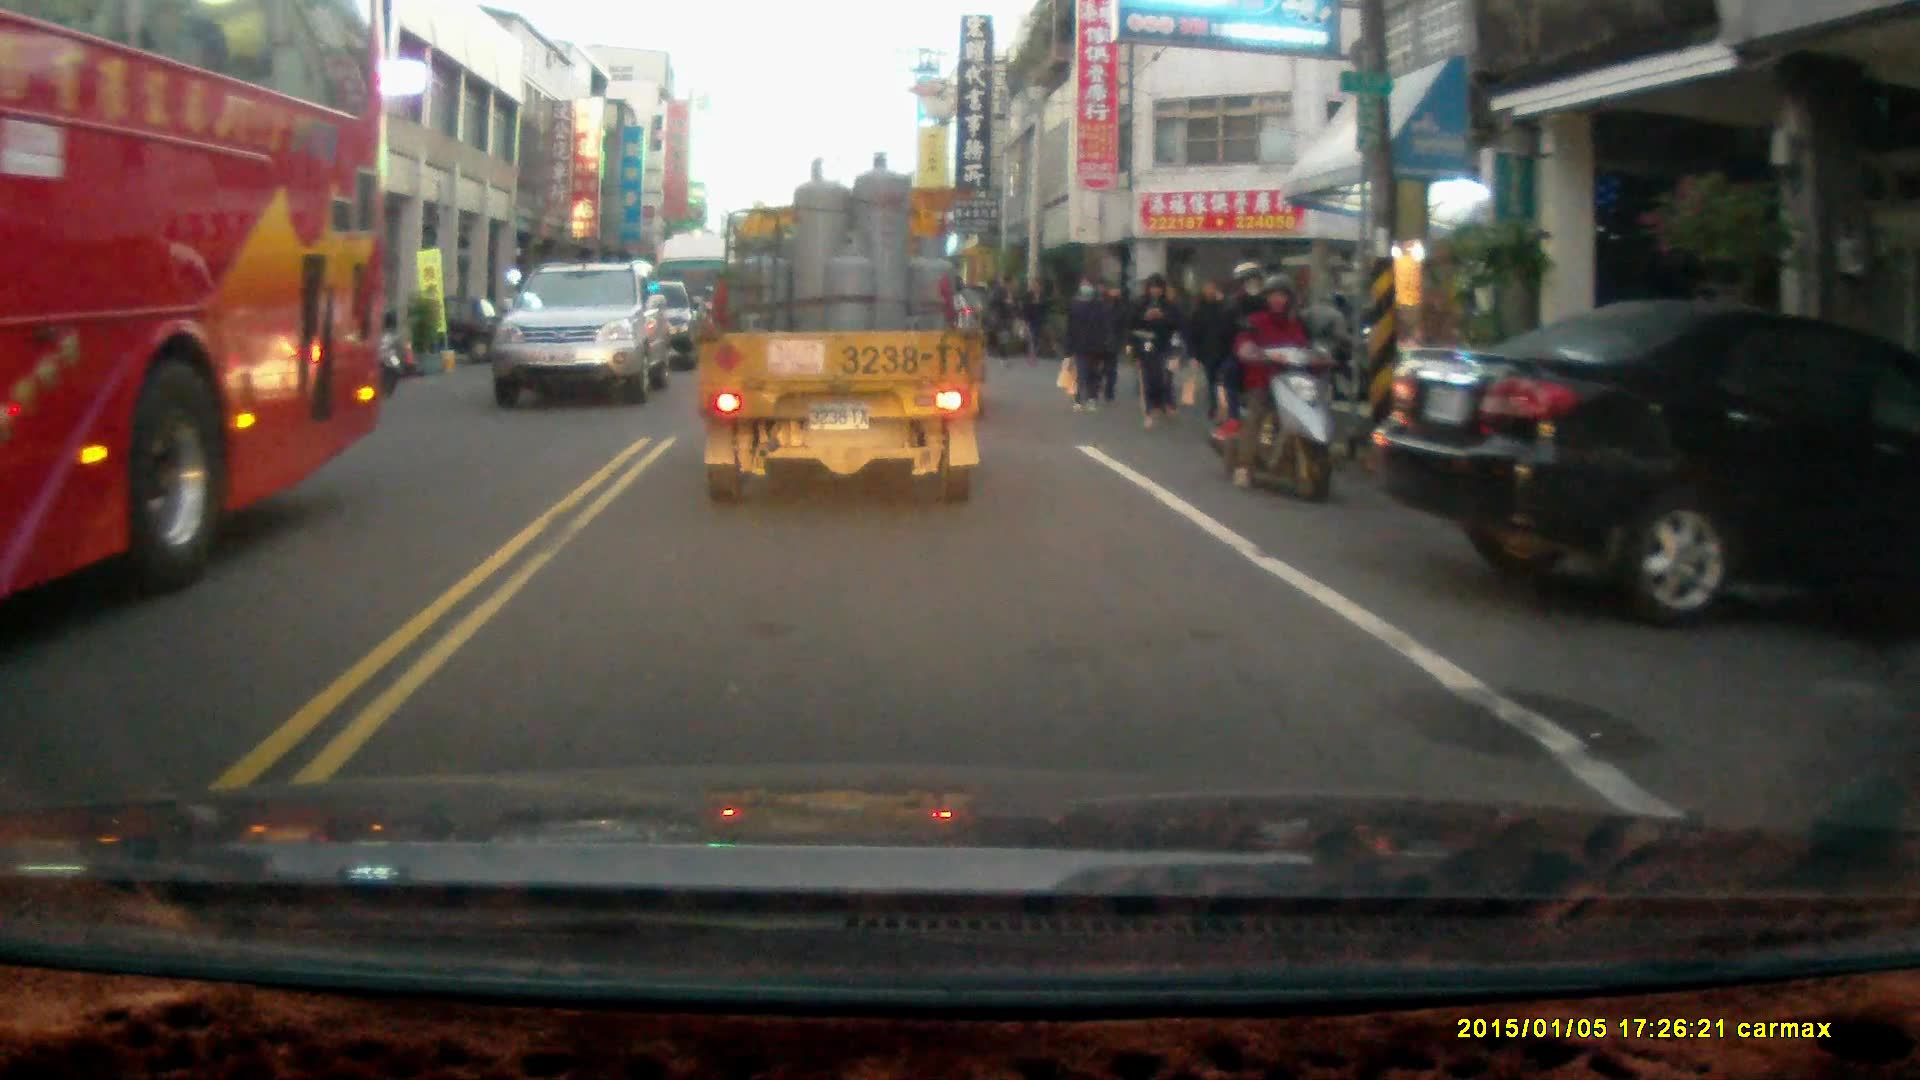pedestrian: (1180, 277, 1236, 431), (1135, 269, 1180, 428), (1061, 274, 1108, 414), (1088, 283, 1127, 405), (1019, 275, 1051, 365), (994, 275, 1025, 363)
rider: (1199, 260, 1330, 499)
vehicle: (1, 7, 388, 611), (1377, 302, 1920, 632), (700, 154, 989, 512), (496, 264, 678, 413)
